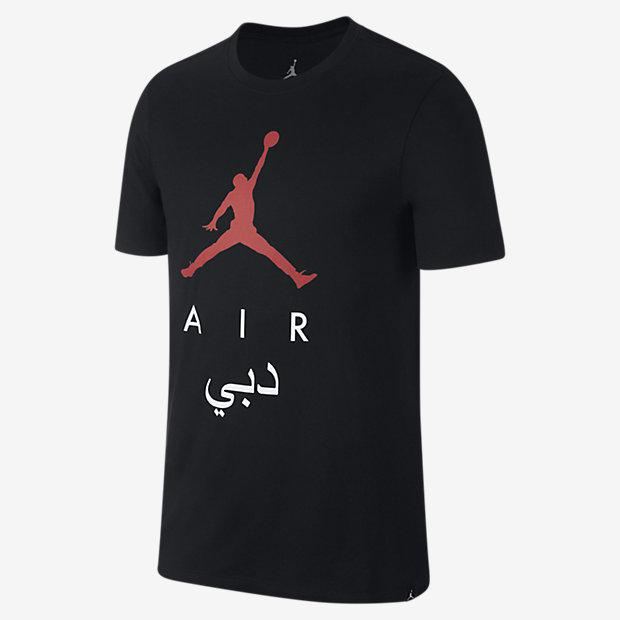teeshirt: (78, 16, 529, 605)
